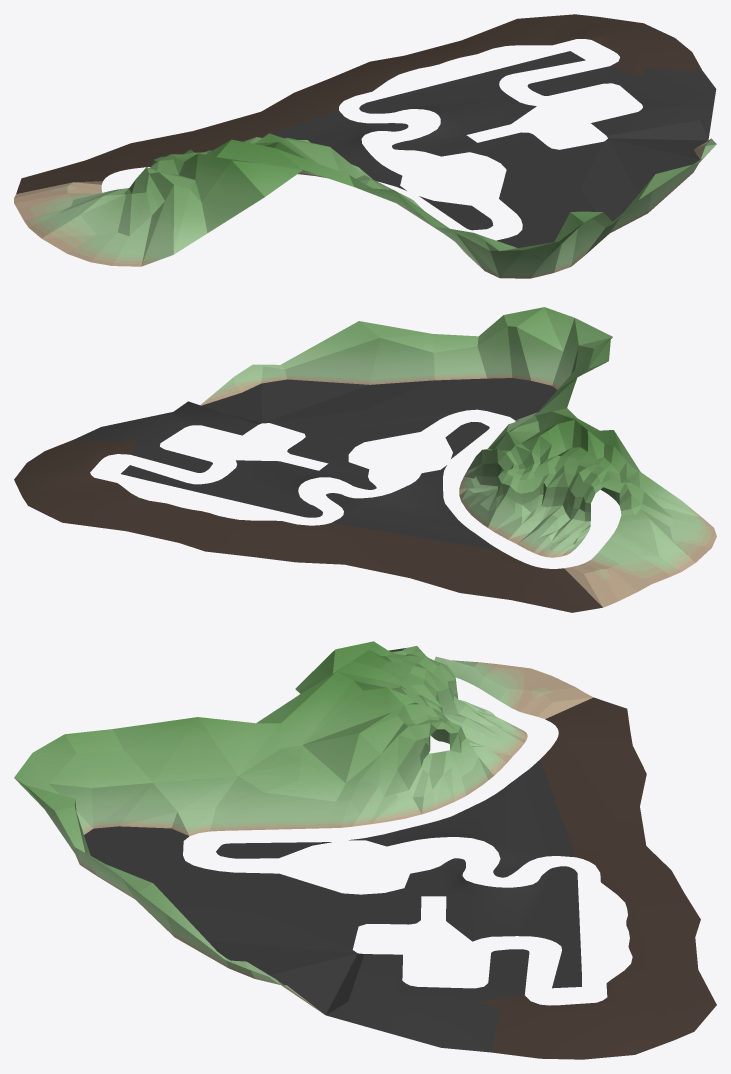
The model's file is Terrai_ajusté.fbx.
The picture shows the model from 3 angles, top to bottom: view 1: azimuth 30°, elevation 25°; view 2: azimuth 150°, elevation 25°; view 3: azimuth 270°, elevation 25°; orthographic projection. The views are drawn at different scales.
Parts seen in each view (by area): view 1: Trottoirs.003, Trottoirs.001; view 2: Trottoirs.003, Trottoirs.001; view 3: Trottoirs.003, Trottoirs.001.
Part boxes in pixels (x1=…): Trottoirs.003: x1=16, y1=14, x2=716, y2=247; Trottoirs.001: x1=14, y1=133, x2=716, y2=278; Trottoirs.003: x1=14, y1=378, x2=602, y2=612; Trottoirs.001: x1=200, y1=307, x2=716, y2=607; Trottoirs.003: x1=84, y1=697, x2=716, y2=1059; Trottoirs.001: x1=14, y1=641, x2=593, y2=1013.
Size of the model in its own units: 59801 by 8129 by 46269.
